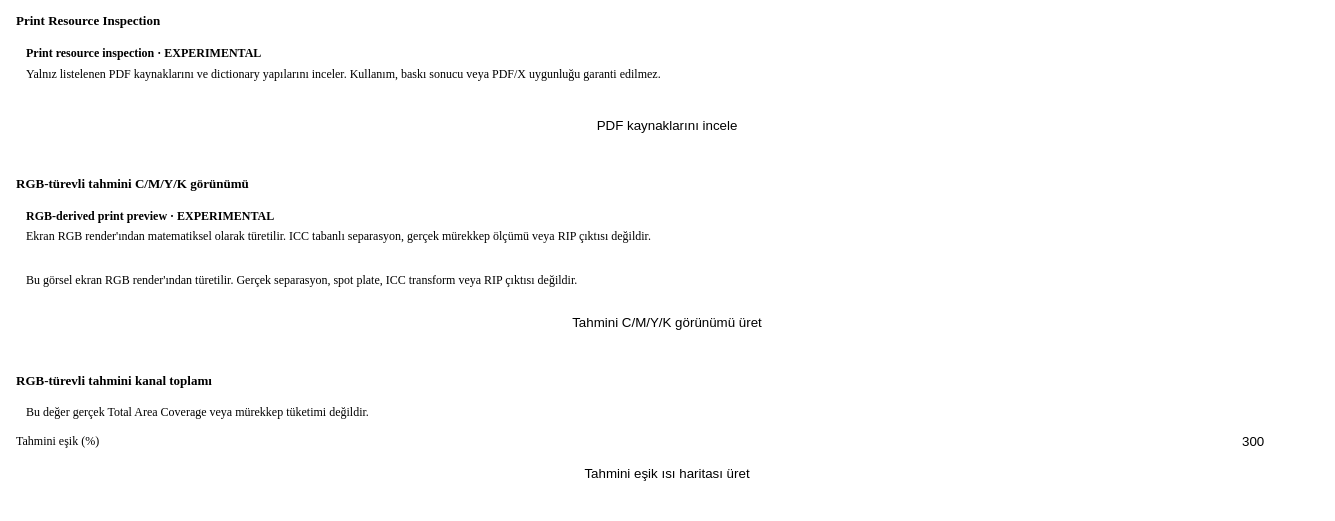
Test: Print inspection and approximate preview panel › shows the encrypted inspection capability difference as a typed failure
This screenshot has width=1335, height=521.
What coordinates should you click on to do the following:
click the button "PDF kaynaklarını incele"
I would click on:
 (667, 125)
Its box is [16, 111, 1318, 140].
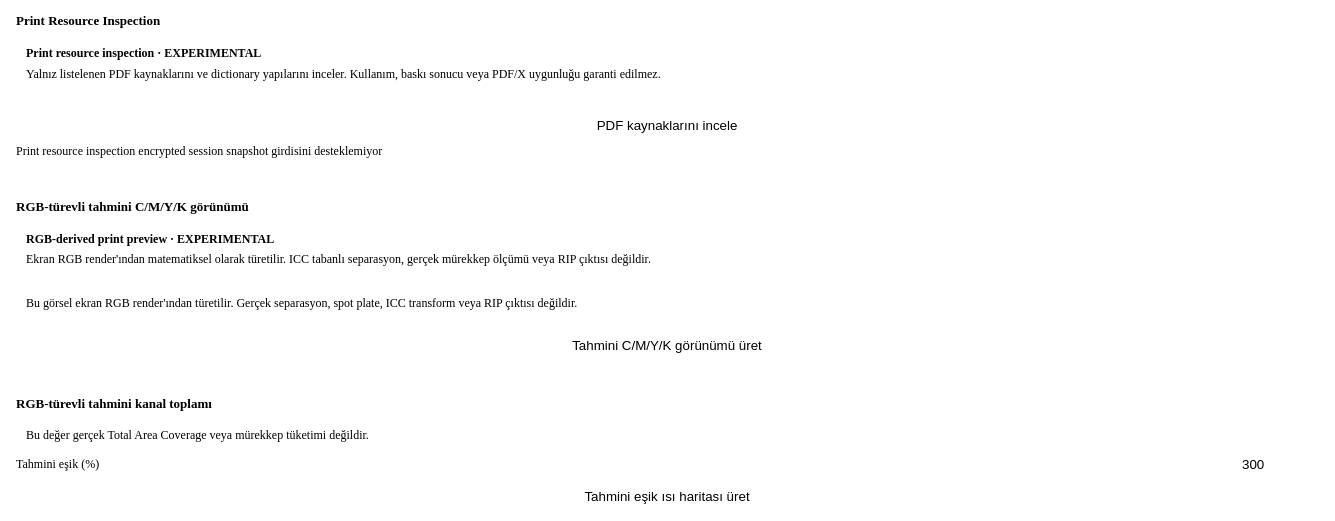
Now the text "encrypted session snapshot" is shown, box [16, 144, 382, 158]
